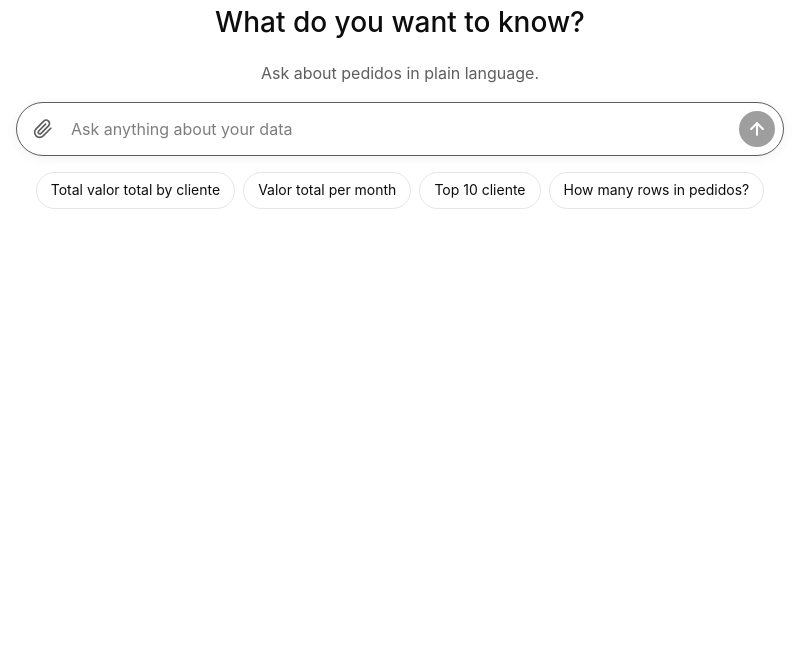
it: ChatView › starts a new conversation with the first question and shows the answer
Type "Quanto cada cliente gastou?" into the text box named "Question".
click(400, 129); type("Quanto cada cliente gastou?")  # box left=67, top=111, right=733, bottom=147
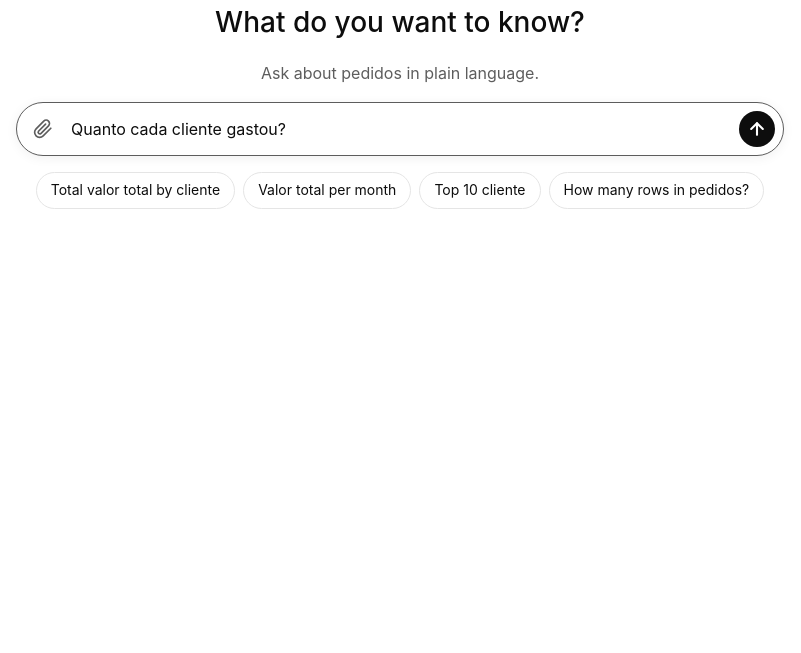
Click the button named "Send".
click(757, 129)  # box left=739, top=111, right=775, bottom=147
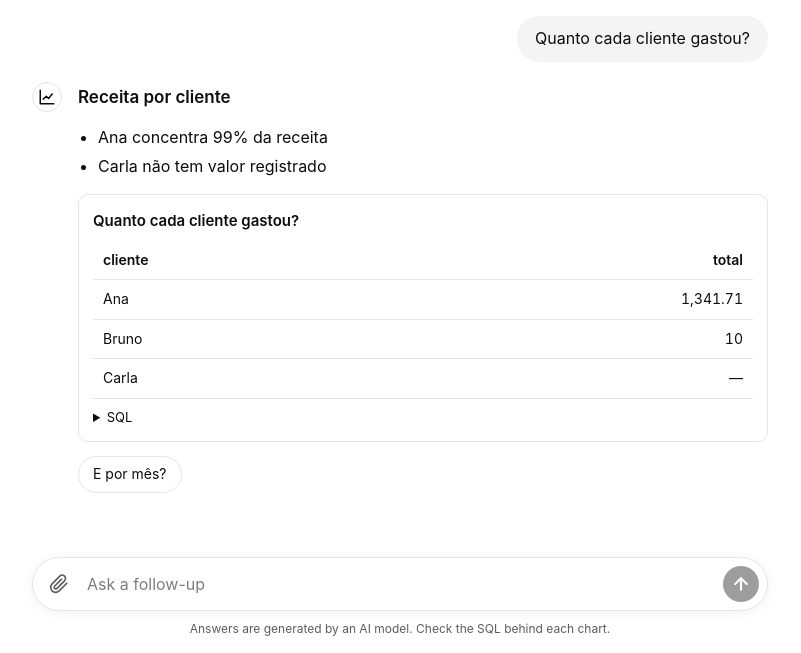
Expected: the heading "Receita por cliente" is shown, left=78, top=87, right=231, bottom=107
Expected: the list item "Ana concentra 99% da receita" is shown, left=98, top=127, right=328, bottom=147
Expected: the text "1,341.71" is shown, left=386, top=280, right=753, bottom=319
